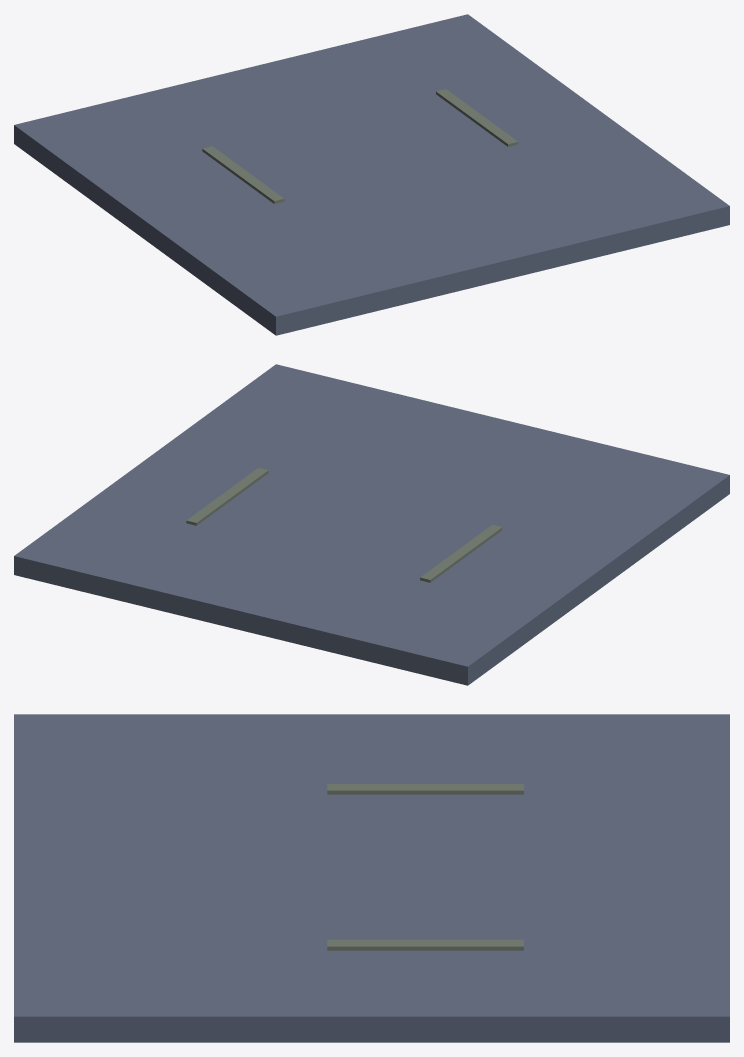
The model's file is tile_asphalt.glb.
The picture shows the model from 3 angles, top to bottom: view 1: azimuth 30°, elevation 25°; view 2: azimuth 150°, elevation 25°; view 3: azimuth 270°, elevation 25°; orthographic projection. The views are drawn at different scales.
Visible parts, largest first — view 1: tile_asphalt; view 2: tile_asphalt; view 3: tile_asphalt.
Boxes of the visible parts, <box> form: tile_asphalt: <box>14,14,729,335</box>; tile_asphalt: <box>14,364,729,685</box>; tile_asphalt: <box>14,714,729,1042</box>.
Size of the model in its own units: 2 by 0.097 by 2.
